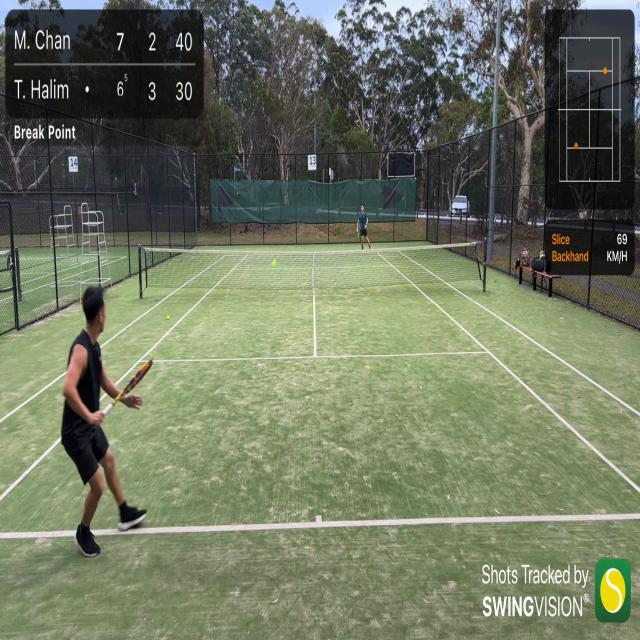ball: (272, 258, 277, 268), (166, 314, 170, 320)
